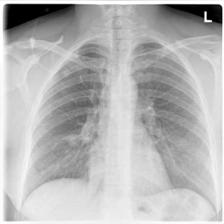tuberculosis: (20, 29, 223, 224)
